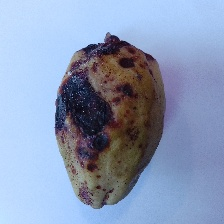guava: (14, 31, 170, 170)
